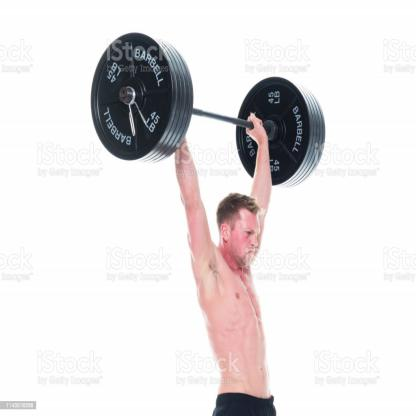Barbell: (90, 25, 198, 172)
